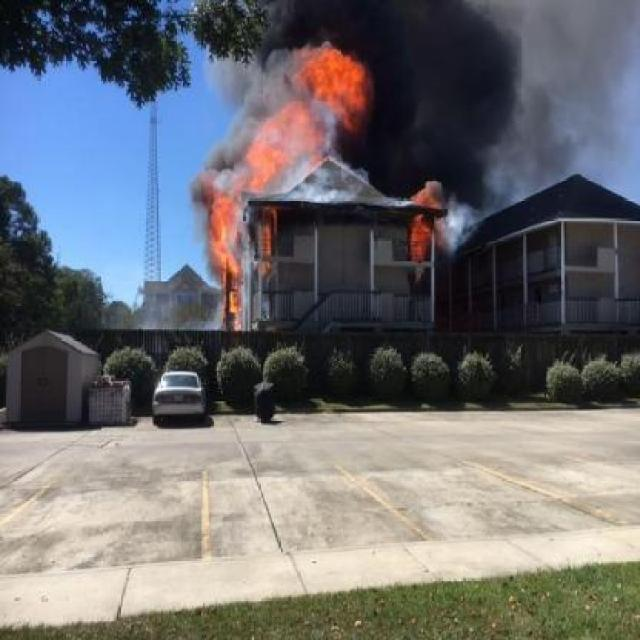Fire: (242, 29, 375, 192), (178, 138, 272, 334)
Smoke: (366, 8, 640, 218), (185, 54, 328, 177), (167, 0, 371, 54)
